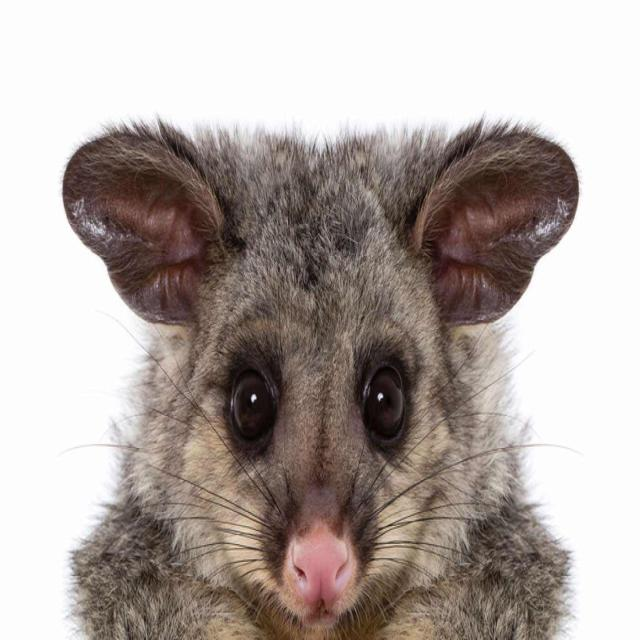Possum: (60, 119, 578, 640)
